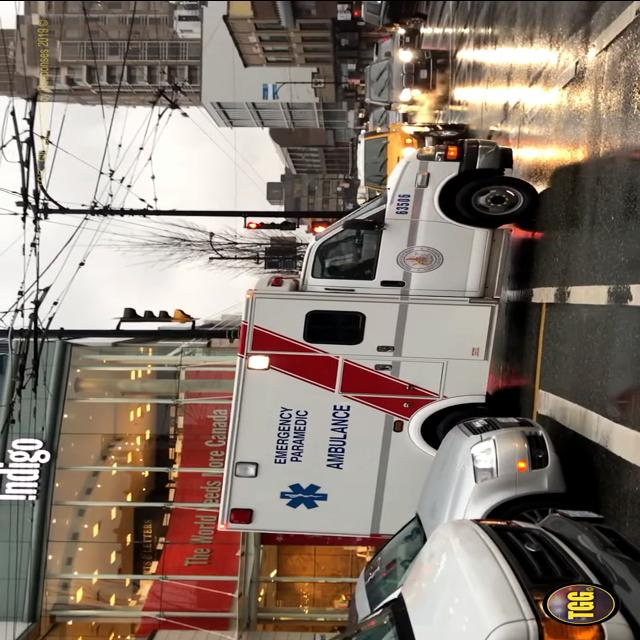emergency-vehicles: (192, 132, 576, 544)
